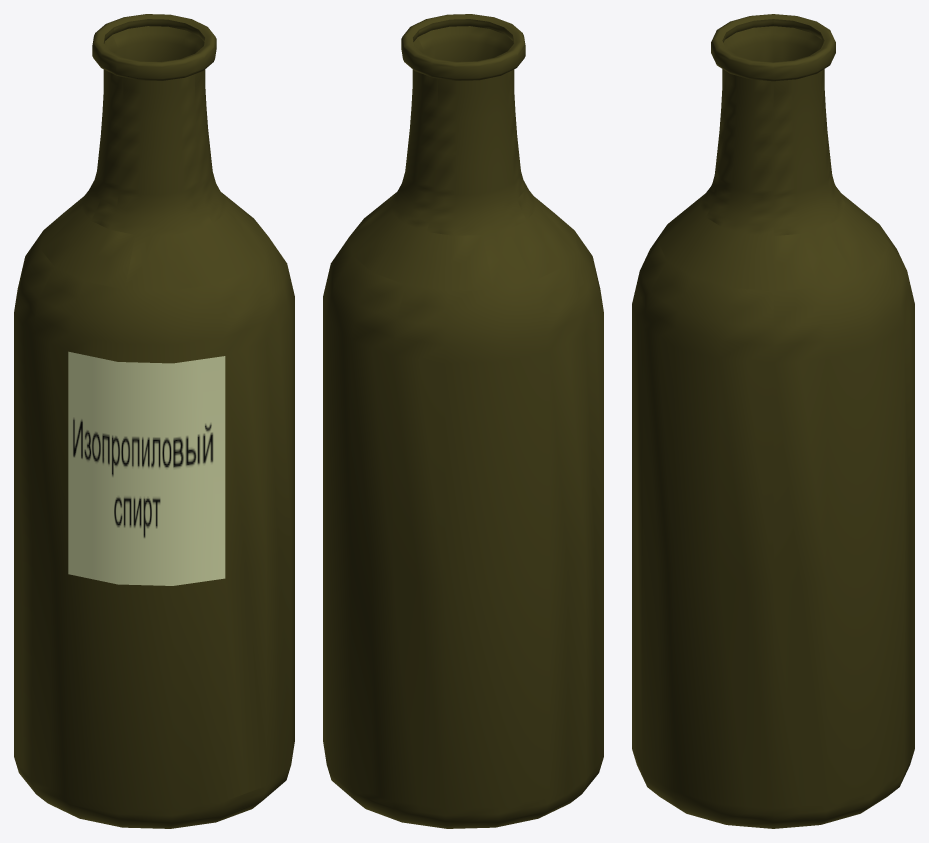
3 renders of one model, left to right at view 1: azimuth 30°, elevation 25°; view 2: azimuth 150°, elevation 25°; view 3: azimuth 270°, elevation 25°, orthographic.
Visible parts, largest first — view 1: Object_2.002_None.002_0.008; view 2: Object_2.002_None.002_0.008; view 3: Object_2.002_None.002_0.008.
Boxes of the visible parts, x1,y1,x2,y2 form: Object_2.002_None.002_0.008: (14,14,294,828); Object_2.002_None.002_0.008: (323,14,603,828); Object_2.002_None.002_0.008: (632,14,914,828).
Size of the model in its own units: 1.69 by 4.9 by 1.69.
Materials: 2 (1 with a texture image).
